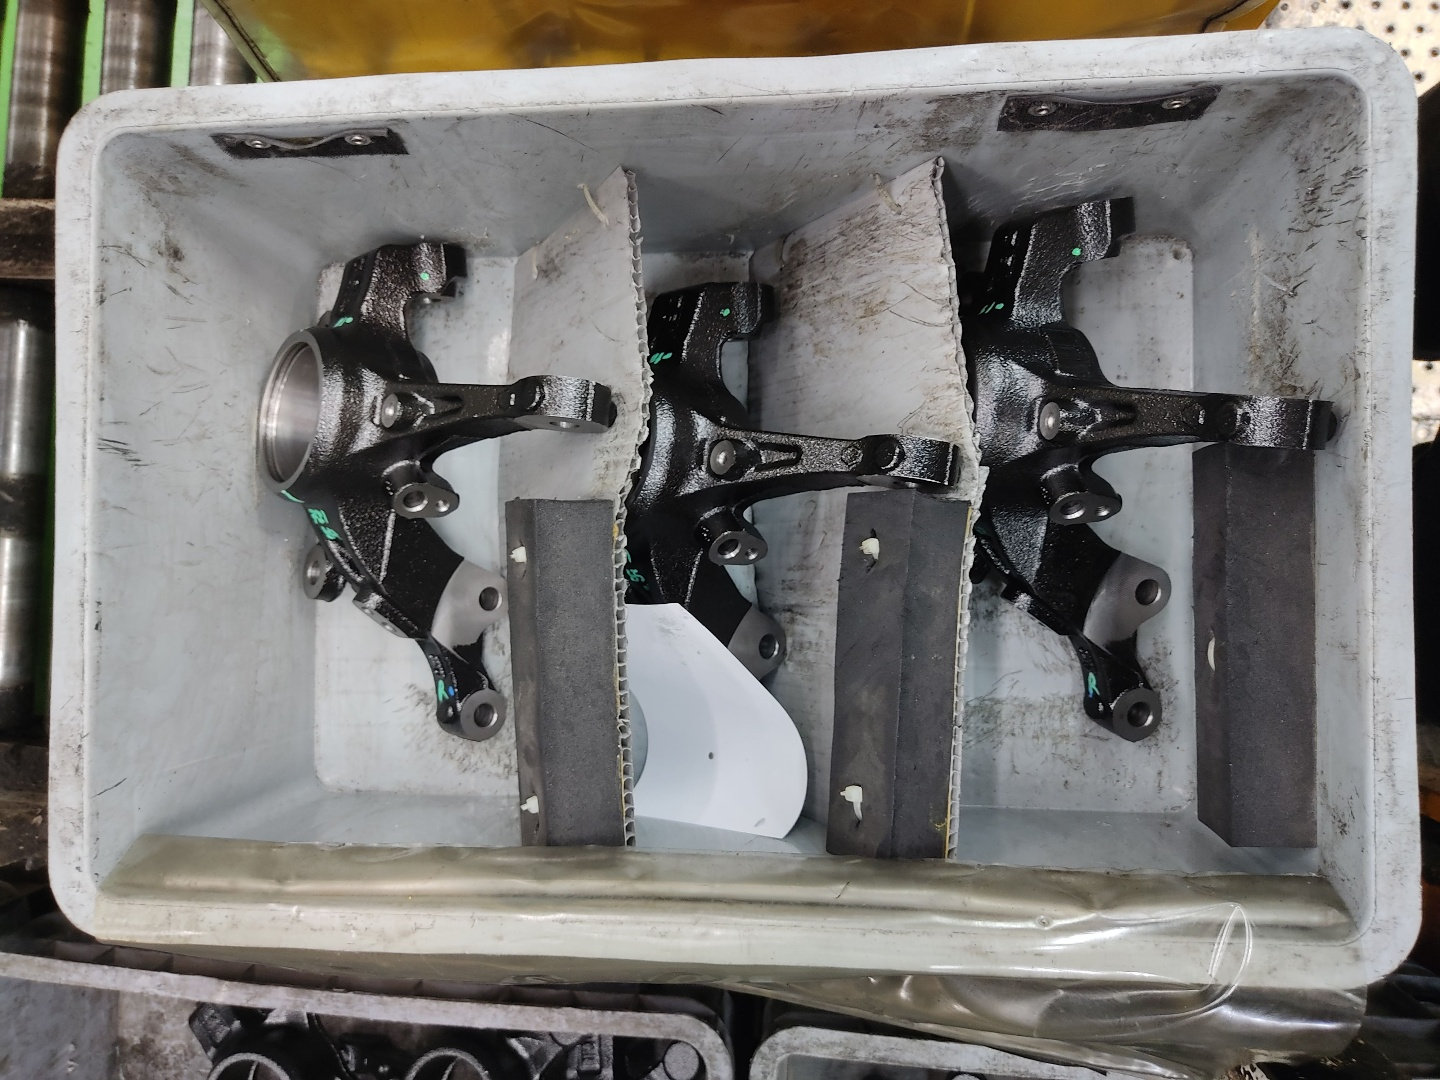abs-rh: (954, 186, 1350, 756), (249, 223, 621, 757), (619, 234, 967, 761)
